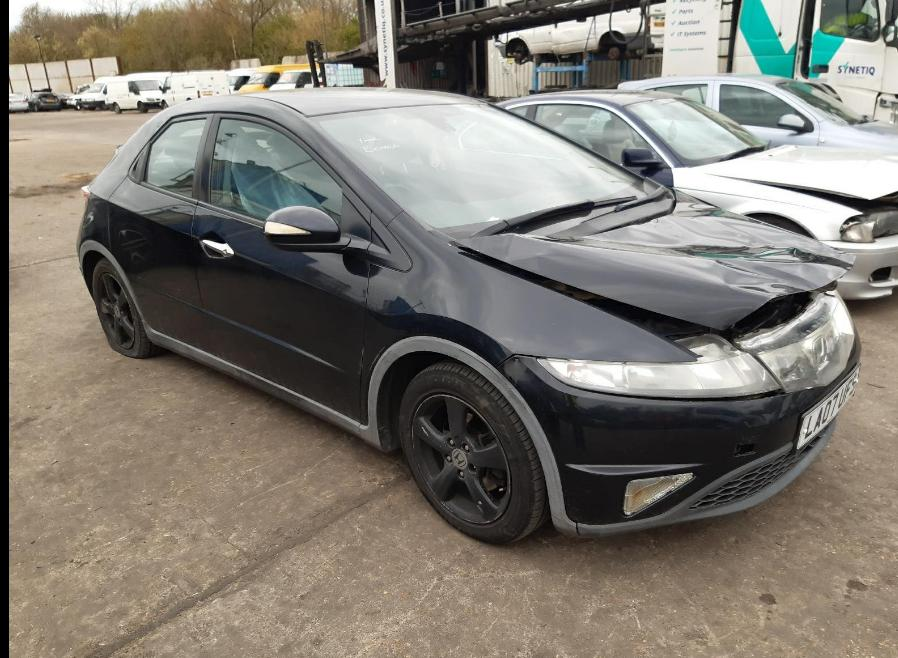Back-door: (108, 112, 215, 354)
Back-wheel: (92, 257, 165, 358)
Back-window: (144, 119, 207, 196)
Fender: (360, 211, 703, 427)
Front-bumper: (360, 299, 862, 537)
Front-door: (190, 112, 372, 423)
Front-wheel: (399, 360, 550, 544)
Front-window: (209, 119, 344, 228)
Grille: (687, 425, 830, 510)
Headlight: (533, 355, 778, 401)
Hood: (459, 186, 857, 328)
License-plate: (797, 366, 858, 450)
Mirror: (264, 194, 388, 252)
Quarter-panel: (76, 164, 149, 337)
Rocker-panel: (147, 326, 360, 439)
Roof: (182, 87, 484, 118)
Tail-light: (82, 187, 90, 201)
Windshield: (307, 104, 670, 246)
